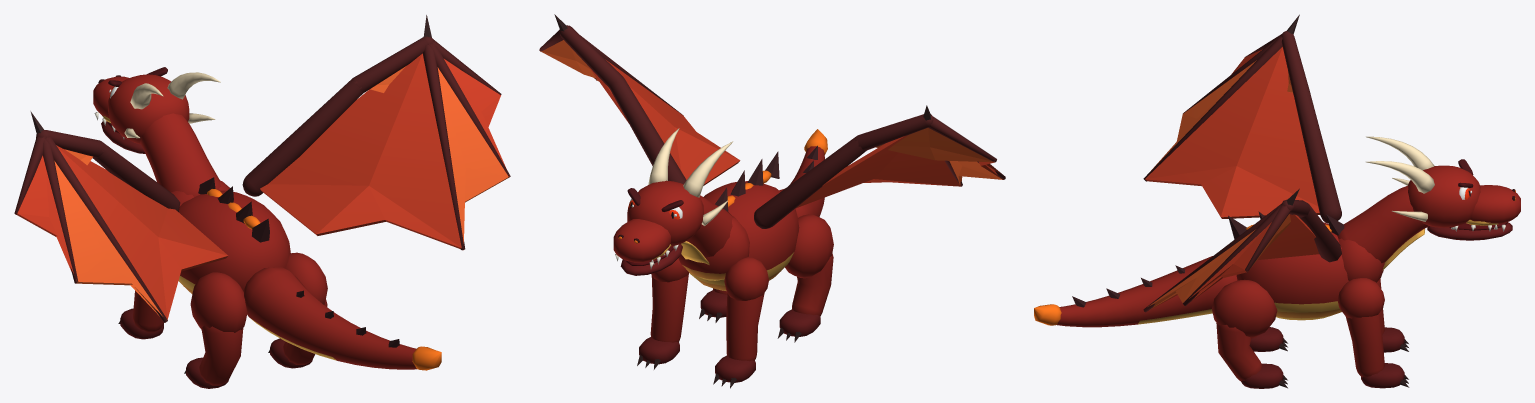
The model's file is keeper_lava_dragon.fbx.
3 renders of one model, left to right at view 1: azimuth 30°, elevation 25°; view 2: azimuth 150°, elevation 25°; view 3: azimuth 270°, elevation 25°, orthographic. The views are drawn at different scales.
Parts seen in each view (by area): view 1: RightWing, LeftWing, Head, Tail, Body, LeftBackLeg, RightBackLeg, LeftFrontLeg, Tail_Glow, Jaw; view 2: LeftWing, Head, RightWing, Body, LeftBackLeg, LeftFrontLeg, RightFrontLeg, Tail, Jaw, RightBackLeg; view 3: LeftWing, Head, RightWing, Body, Tail, RightBackLeg, RightFrontLeg, Jaw, LeftBackLeg, LeftFrontLeg, Tail_Glow.
Part boxes in pixels (x1,y1,x2,y2): RightWing: (242,15,510,250); LeftWing: (14,111,227,322); Head: (93,67,220,196); Tail: (243,267,416,369); Body: (171,177,290,293); LeftBackLeg: (184,272,247,388); RightBackLeg: (268,252,327,368); LeftFrontLeg: (118,290,163,339); Tail_Glow: (412,346,441,370); Jaw: (101,120,145,153); LeftWing: (754,105,1005,228); Head: (613,128,733,268); RightWing: (539,14,740,185); Body: (678,151,799,290); LeftBackLeg: (777,214,833,342); LeftFrontLeg: (713,257,768,388); RightFrontLeg: (637,258,689,369); Tail: (779,145,824,217); Jaw: (620,244,682,275); RightBackLeg: (699,288,727,322); LeftWing: (1143,14,1341,223); Head: (1337,136,1520,270); RightWing: (1143,188,1341,312); Body: (1228,211,1384,320); Tail: (1056,256,1237,327); RightBackLeg: (1212,279,1287,388); RightFrontLeg: (1337,278,1409,388); Jaw: (1427,222,1512,240); LeftBackLeg: (1249,327,1287,351); LeftFrontLeg: (1376,278,1408,352); Tail_Glow: (1034,304,1061,325).
Size of the model in its own units: 3303 by 1913 by 3177.
5 materials, 1 textured.
